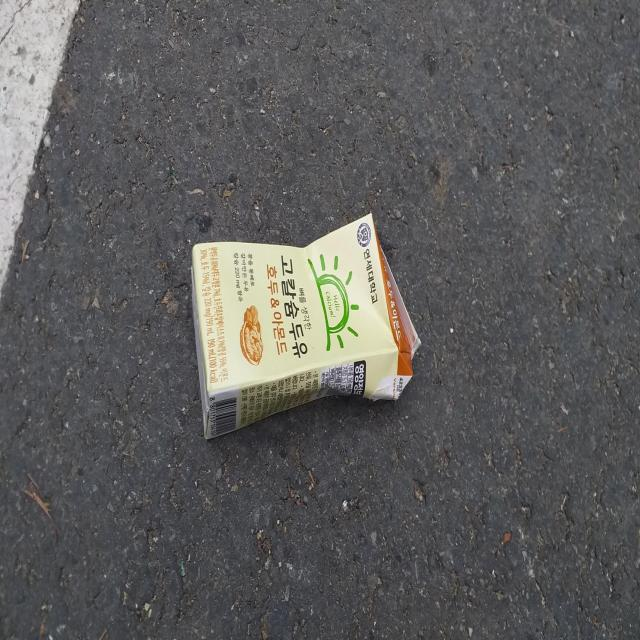paperpack: (191, 213, 420, 439)
